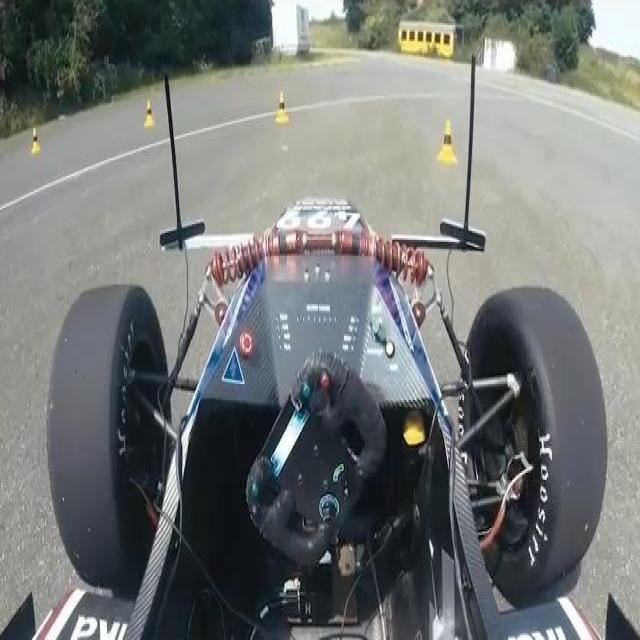yellow_cone: (439, 115, 462, 178), (271, 82, 292, 131), (139, 96, 160, 131), (29, 126, 43, 158)
